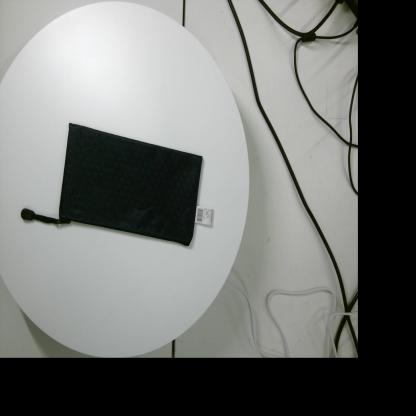Stationery: (21, 123, 213, 246)
